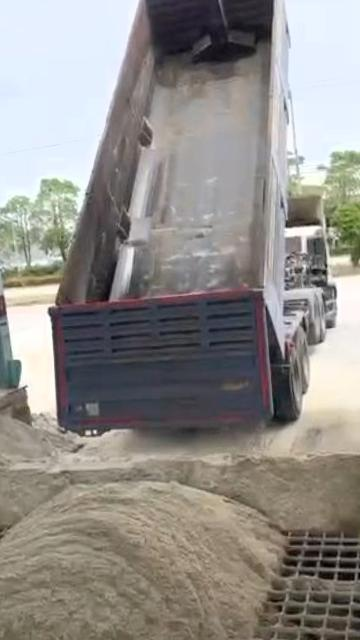sand: (0, 418, 360, 640), (286, 571, 360, 593)
